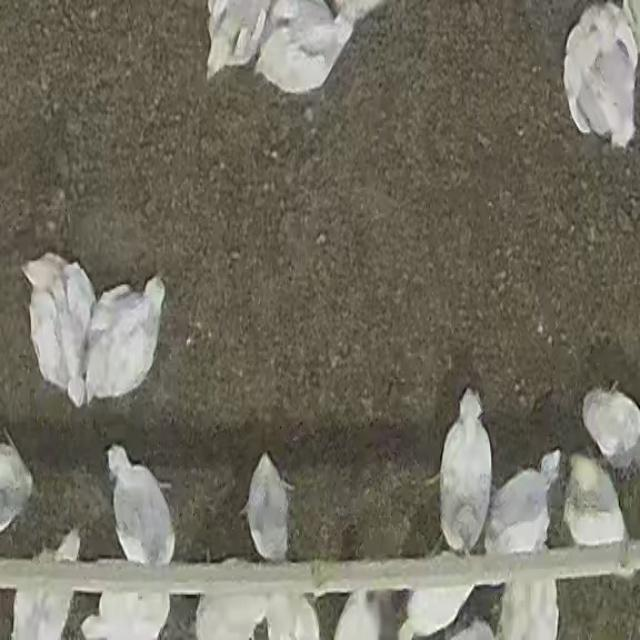chicken: (18, 250, 92, 410), (432, 378, 492, 562), (90, 270, 169, 408), (102, 441, 184, 562), (482, 449, 565, 555), (238, 451, 301, 562)
